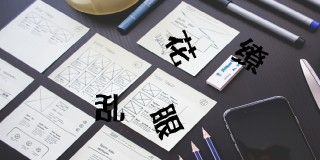乱: (94, 93, 124, 124)
眼: (149, 102, 184, 141)
缭: (231, 36, 269, 77)
花: (162, 28, 199, 68)
